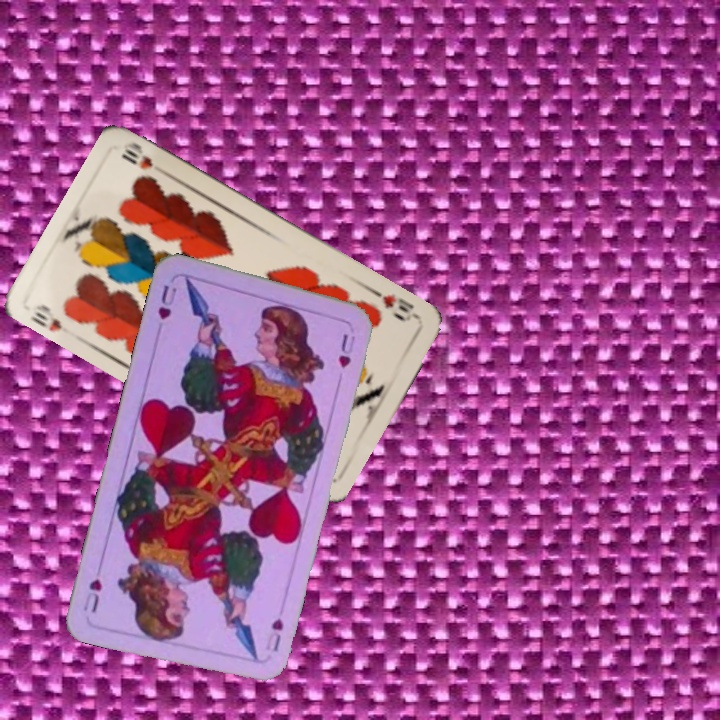H10: (369, 286, 423, 325), (26, 300, 65, 334)
HU: (153, 281, 179, 322), (261, 613, 286, 654)
